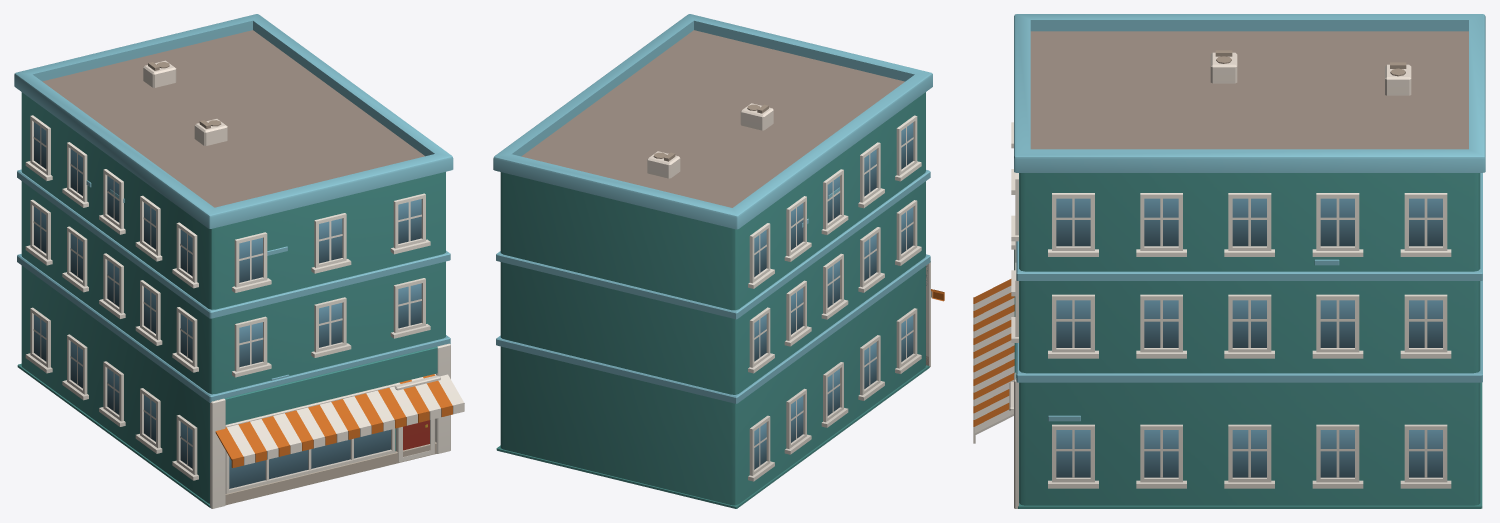
The model's file is boylston_s20.glb.
3 renders of one model, left to right at view 1: azimuth 30°, elevation 25°; view 2: azimuth 150°, elevation 25°; view 3: azimuth 270°, elevation 25°, orthographic. The views are drawn at different scales.
Visible parts, largest first — view 1: boylston_s20; view 2: boylston_s20; view 3: boylston_s20.
Boxes of the visible parts, x1,y1,x2,y2 form: boylston_s20: (14, 14, 464, 508); boylston_s20: (493, 14, 944, 508); boylston_s20: (973, 14, 1485, 508).
Bounding box in the file's own units: 10.48 × 12.19 × 15.55.
Materials: 1 (1 with a texture image).
